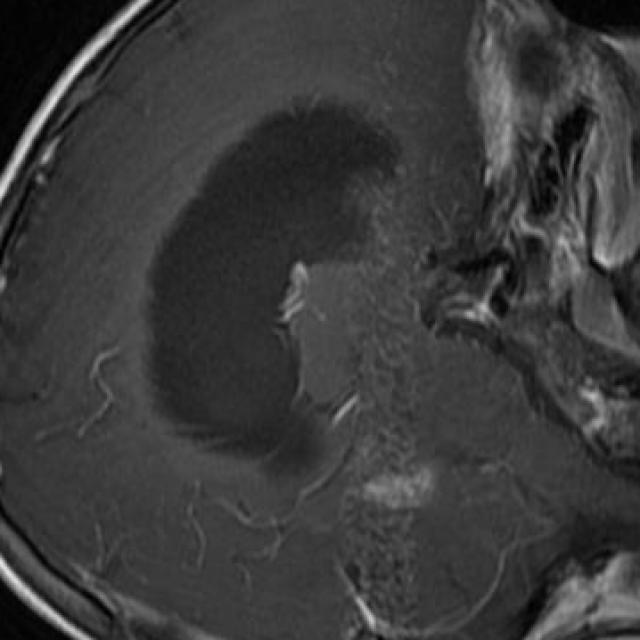glioma: (146, 93, 403, 478)
